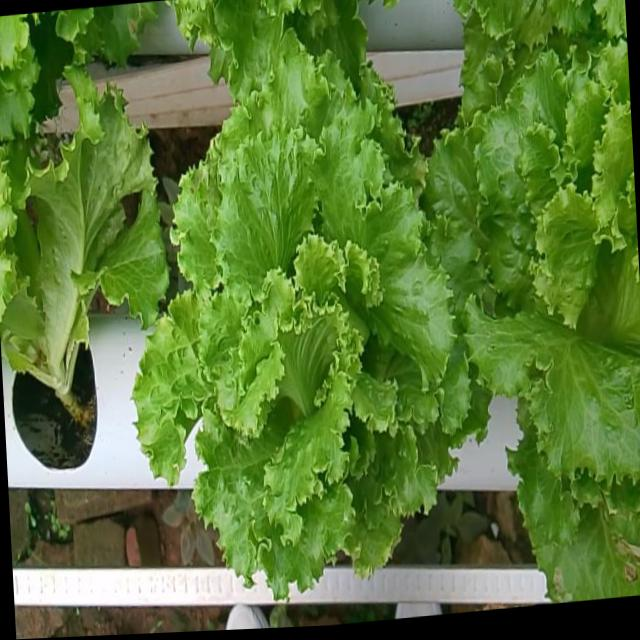Mature: (144, 66, 481, 609), (435, 63, 640, 501)
